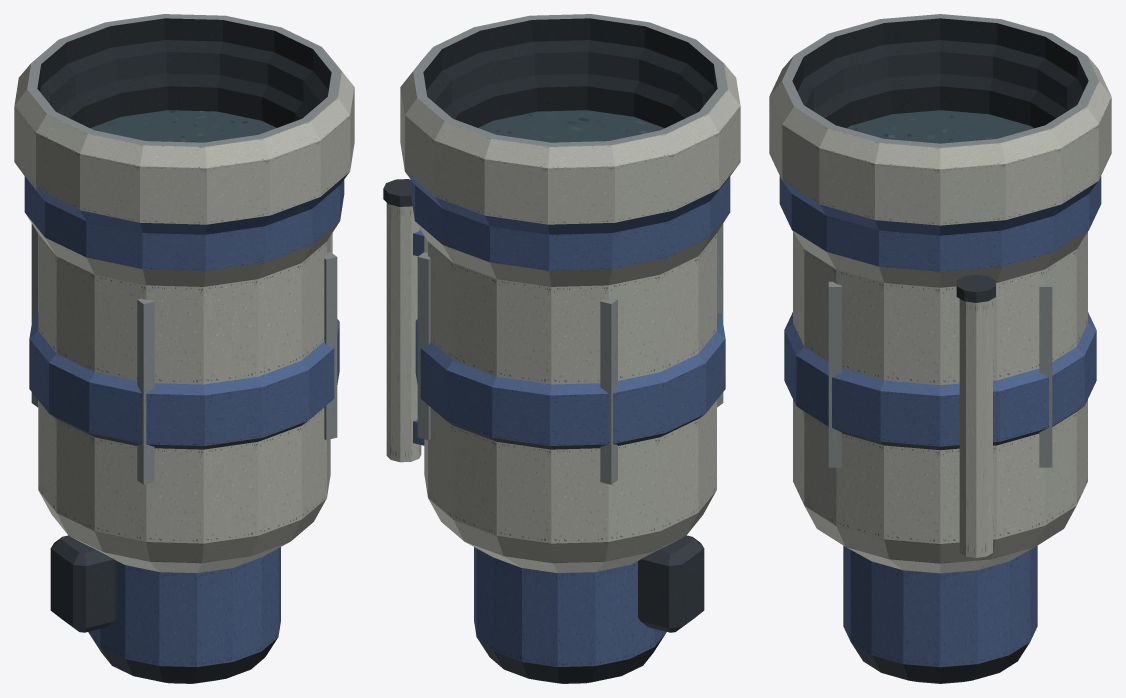
File: TelescopeTube.fbx
The picture shows the model from 3 angles, left to right: view 1: azimuth 30°, elevation 25°; view 2: azimuth 150°, elevation 25°; view 3: azimuth 270°, elevation 25°; orthographic projection.
Parts seen in each view (by area): view 1: TelescopeTube; view 2: TelescopeTube; view 3: TelescopeTube.
Boxes of the visible parts, x1=… form: TelescopeTube: x1=14, y1=14, x2=354, y2=683; TelescopeTube: x1=383, y1=14, x2=740, y2=683; TelescopeTube: x1=769, y1=14, x2=1111, y2=683.
Bounding box in the file's own units: 456 × 800 × 430.
